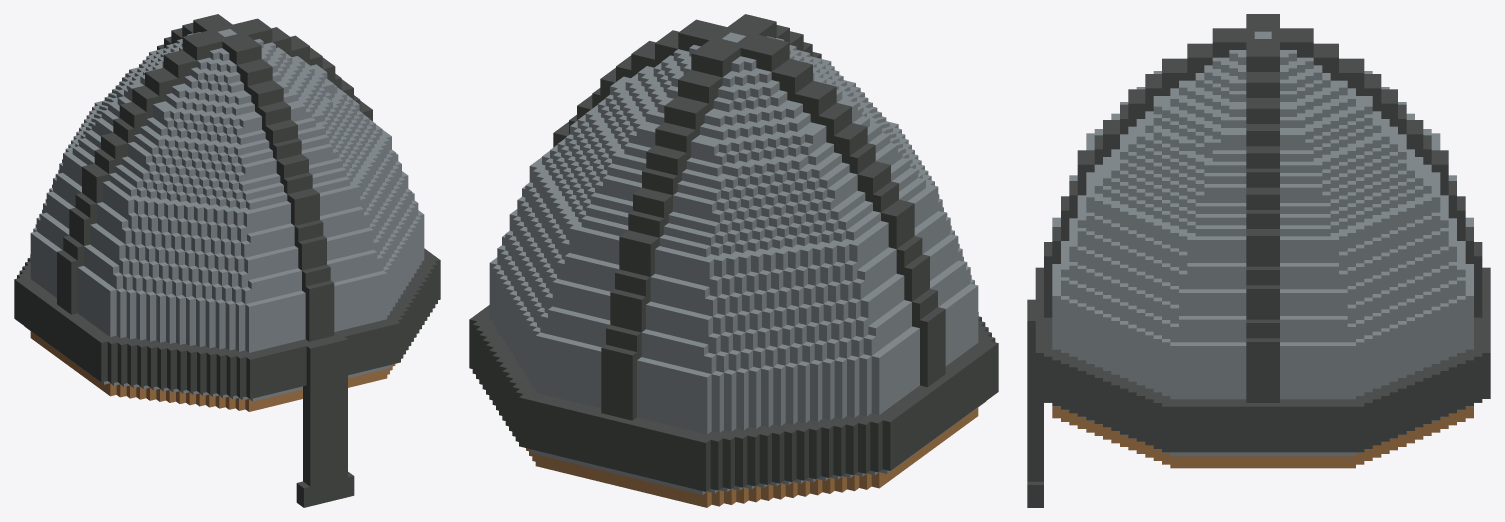
File: helmet_nasal.glb
The picture shows the model from 3 angles, left to right: view 1: azimuth 30°, elevation 25°; view 2: azimuth 150°, elevation 25°; view 3: azimuth 270°, elevation 25°; orthographic projection. The views are drawn at different scales.
Parts seen in each view (by area): view 1: helmet_nasal:compound; view 2: helmet_nasal:compound; view 3: helmet_nasal:compound.
Part boxes in pixels (x1,y1,x2,y2): helmet_nasal:compound: [14, 14, 440, 507]; helmet_nasal:compound: [469, 14, 998, 507]; helmet_nasal:compound: [1027, 14, 1490, 507].
Size of the model in its own units: 0.216 by 0.24 by 0.22.
